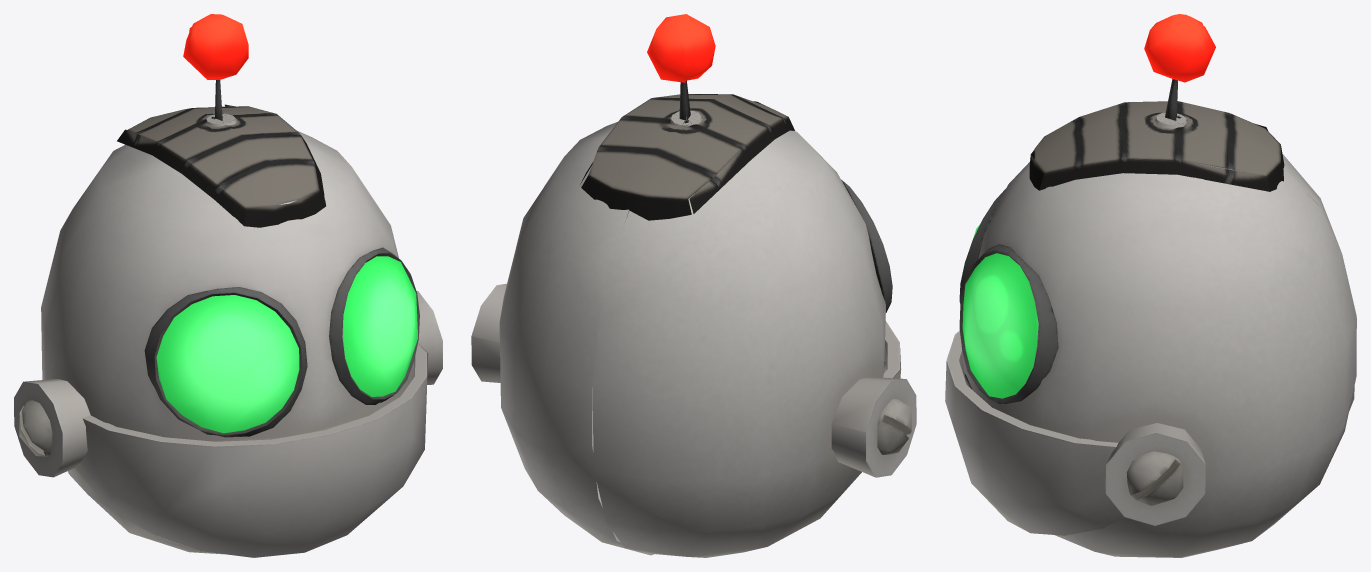
Rendered from clank.glb.
The picture shows the model from 3 angles, left to right: view 1: azimuth 30°, elevation 25°; view 2: azimuth 150°, elevation 25°; view 3: azimuth 270°, elevation 25°; orthographic projection. The views are drawn at different scales.
Parts seen in each view (by area): view 1: clank; view 2: clank; view 3: clank.
Part boxes in pixels (x1,y1,x2,y2): clank: (14,14,442,557); clank: (471,14,916,557); clank: (945,14,1356,557).
Bounding box in the file's own units: 7.35 × 8.73 × 6.23.
1 material, 1 textured.
